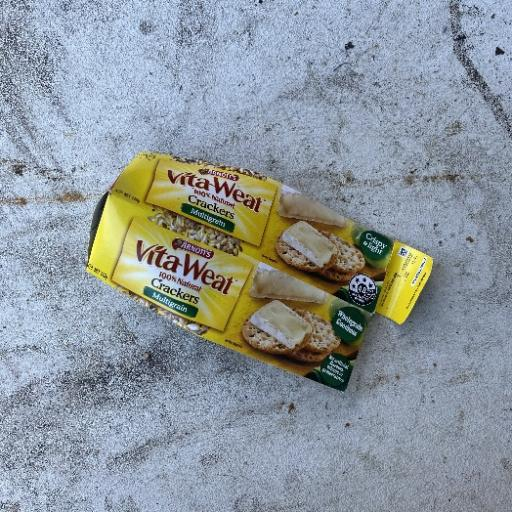Cardboard: (84, 148, 435, 394)
